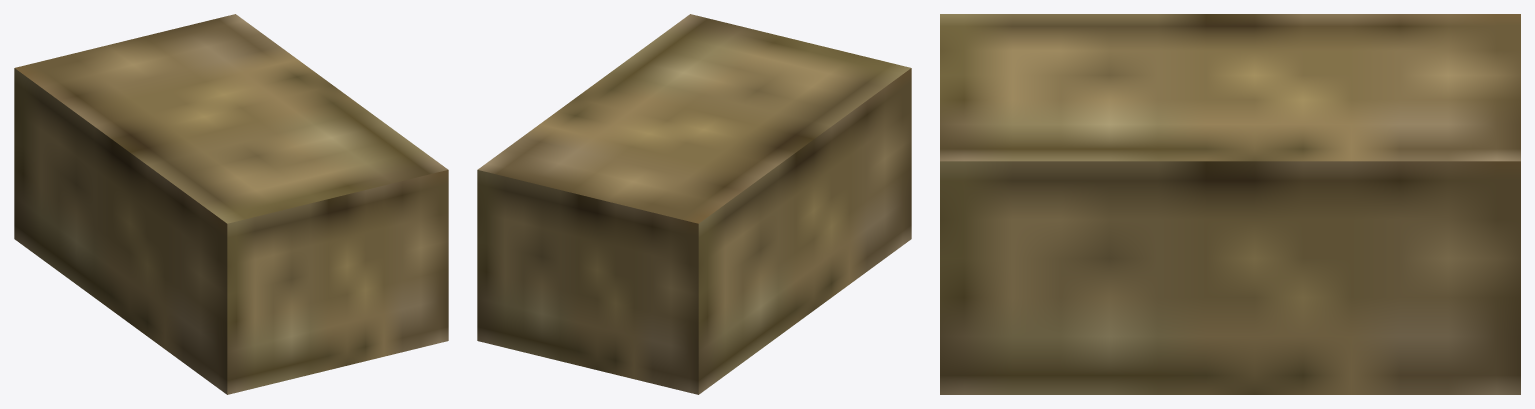
File: building_construction_e_small_brick.glb
The picture shows the model from 3 angles, left to right: view 1: azimuth 30°, elevation 25°; view 2: azimuth 150°, elevation 25°; view 3: azimuth 270°, elevation 25°; orthographic projection. The views are drawn at different scales.
Visible parts, largest first — view 1: MeshRoot; view 2: MeshRoot; view 3: MeshRoot.
Boxes of the visible parts, x1=… form: MeshRoot: x1=14, y1=14, x2=448, y2=394; MeshRoot: x1=477, y1=14, x2=911, y2=394; MeshRoot: x1=940, y1=14, x2=1520, y2=394.
Size of the model in its own units: 0.3076 by 0.2275 by 0.5127.
1 material, 1 textured.
